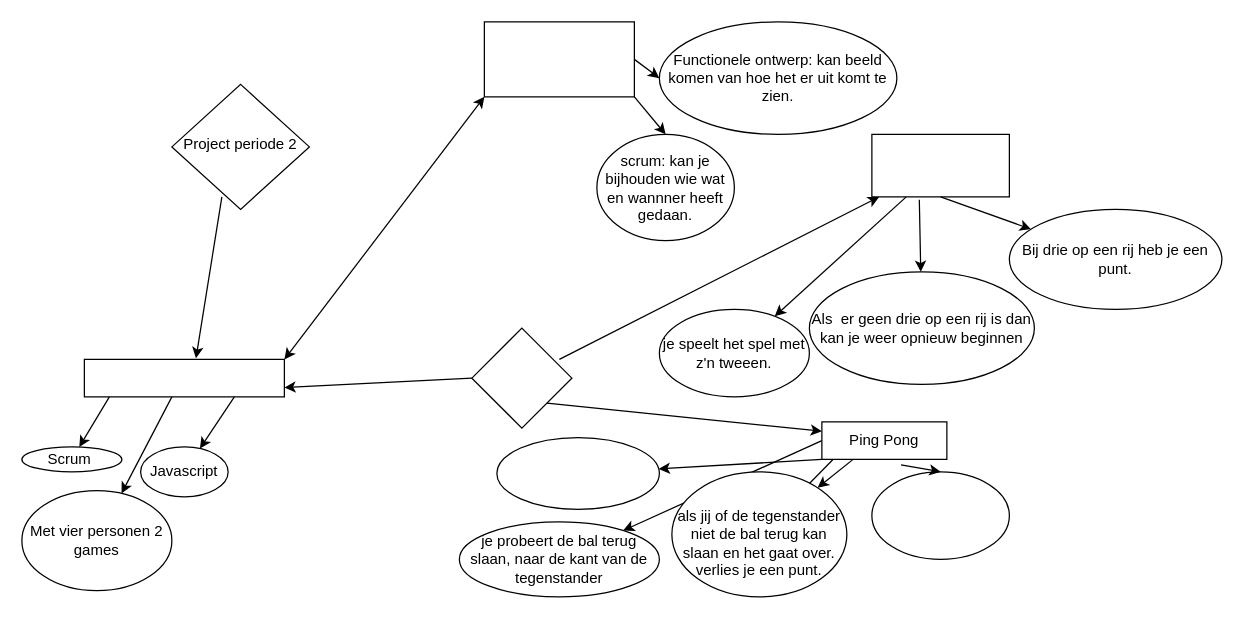
This 1244x619 diagram has some shape labels left out. The centre of each missing label's shape, as x and y in pixels:
"als je weer gelijk wilt spelen, druk je op restart." belongs at (940,515).
"documentatie" belongs at (558,59).
"Eisen" belongs at (183,377).
"Game" belongs at (521,377).
"je speelt tegen elkaar.(2spelers)" belongs at (577,472).
"tic tac toe" belongs at (940,165).
